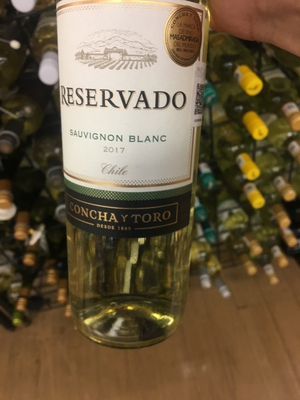reservado sauvignon blanc: (54, 2, 210, 332)
